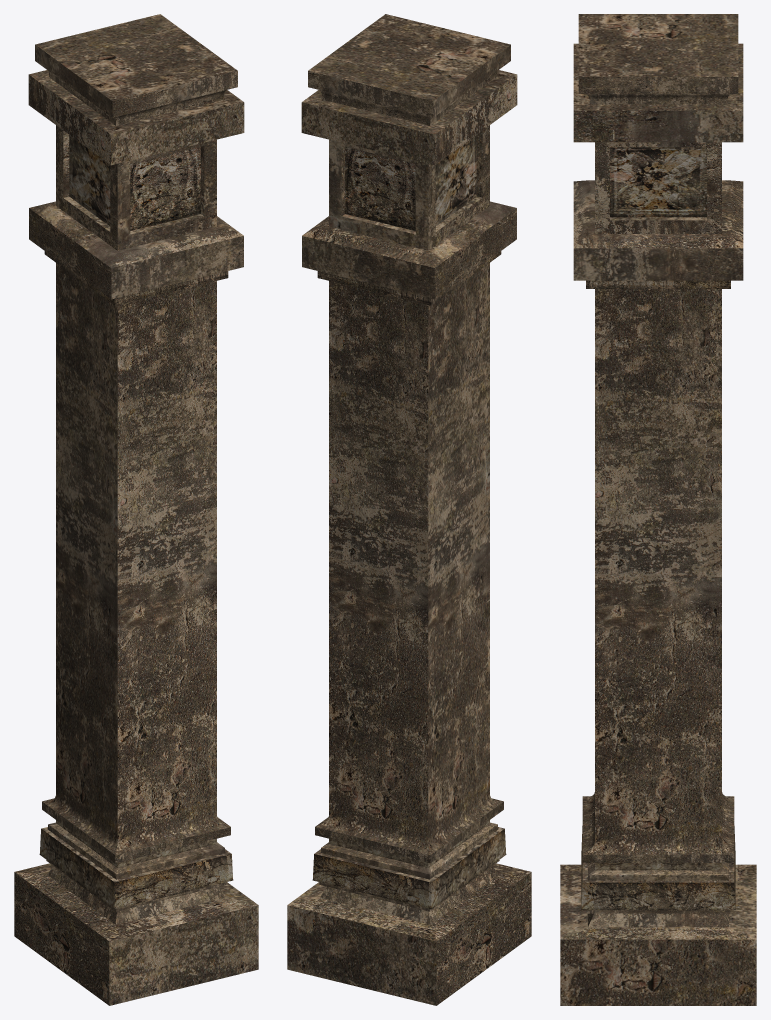
Rendered from materials_5_pillar_long_6.fbx.
3 views of the same model, side by side, from view 1: azimuth 30°, elevation 25°; view 2: azimuth 150°, elevation 25°; view 3: azimuth 270°, elevation 25° (orthographic). The views are drawn at different scales.
Parts seen in each view (by area): view 1: materials_5_pillar_long_6; view 2: materials_5_pillar_long_6; view 3: materials_5_pillar_long_6.
Part boxes in pixels (box(x1,y1,x2,y2)): materials_5_pillar_long_6: box(14, 14, 258, 1005); materials_5_pillar_long_6: box(287, 14, 531, 1005); materials_5_pillar_long_6: box(560, 14, 756, 1005).
Size of the model in its own units: 34.98 by 201 by 38.66.
